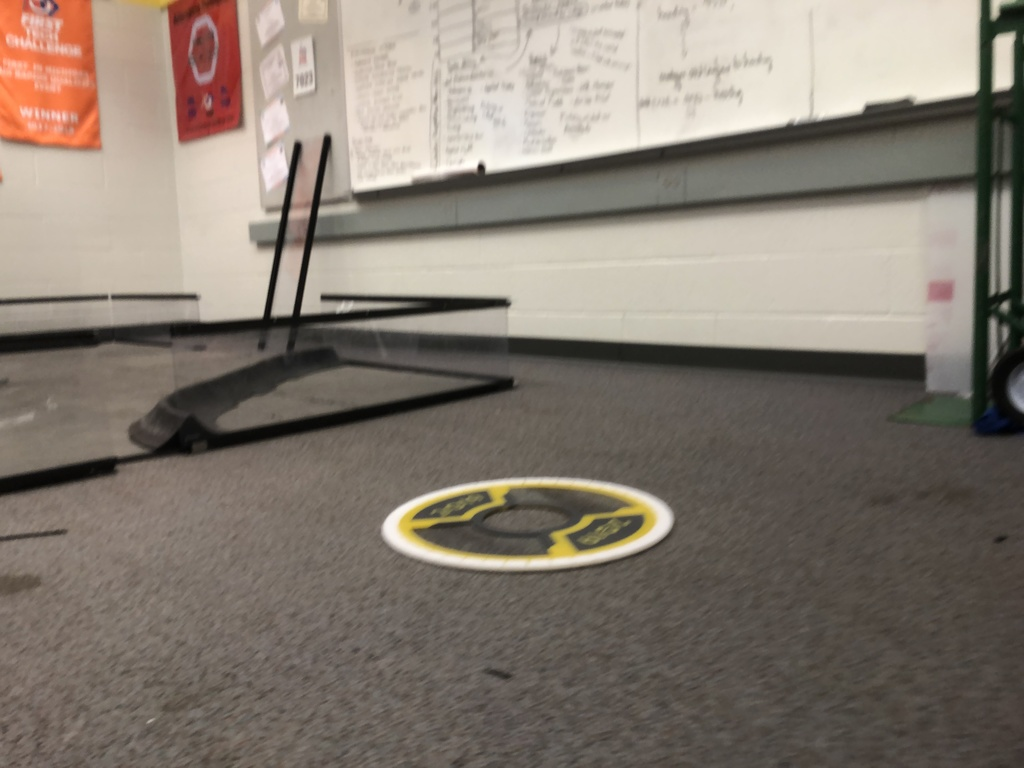hatch_panel: (371, 464, 687, 579)
